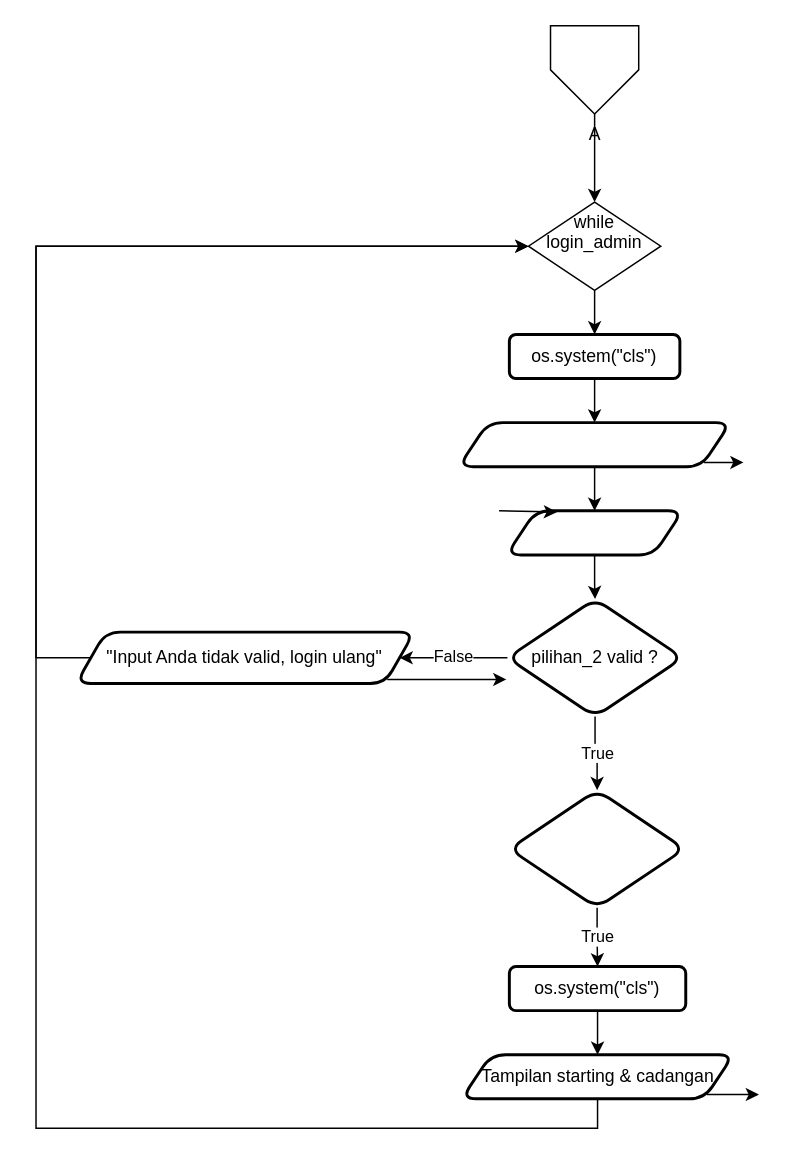
Some shapes in this 797 by 1166 pixel diagram are drawn without their labels. Here are the shapes that lost their labels. From the top down, the centre of each, then its label:
(593,443): Tampilan pilihan menu admin
(594,532): pilihan_2
(596,848): pilihan_2 == "1"
